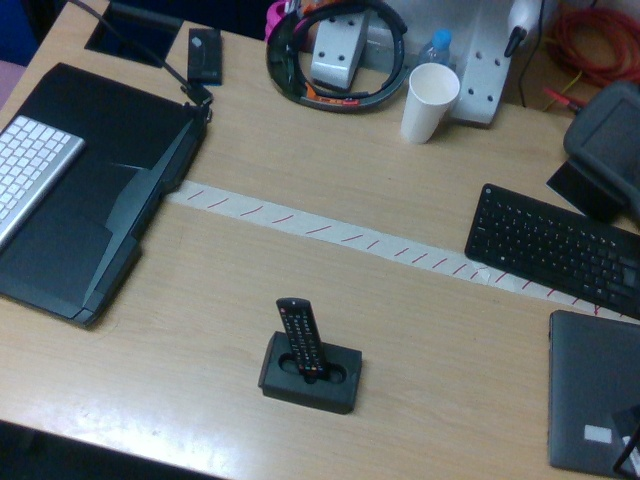remote: (274, 297, 332, 385)
